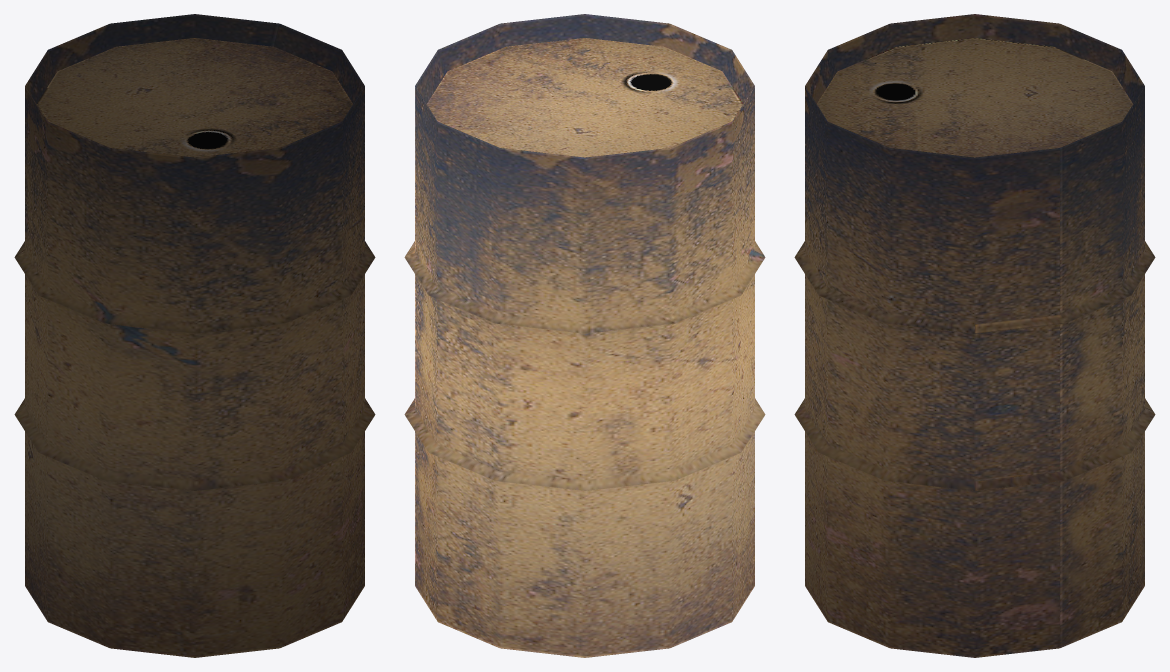
File: barrel02.fbx
The picture shows the model from 3 angles, left to right: view 1: azimuth 30°, elevation 25°; view 2: azimuth 150°, elevation 25°; view 3: azimuth 270°, elevation 25°; orthographic projection.
Parts seen in each view (by area): view 1: barrel2_Layer1; view 2: barrel2_Layer1; view 3: barrel2_Layer1.
Boxes of the visible parts, left/top/right/bottom form: barrel2_Layer1: left=14, top=14, right=375, bottom=657; barrel2_Layer1: left=404, top=14, right=765, bottom=657; barrel2_Layer1: left=794, top=14, right=1155, bottom=657.
Bounding box in the file's own units: 66.3 × 101 × 66.3.
1 material, 1 textured.
